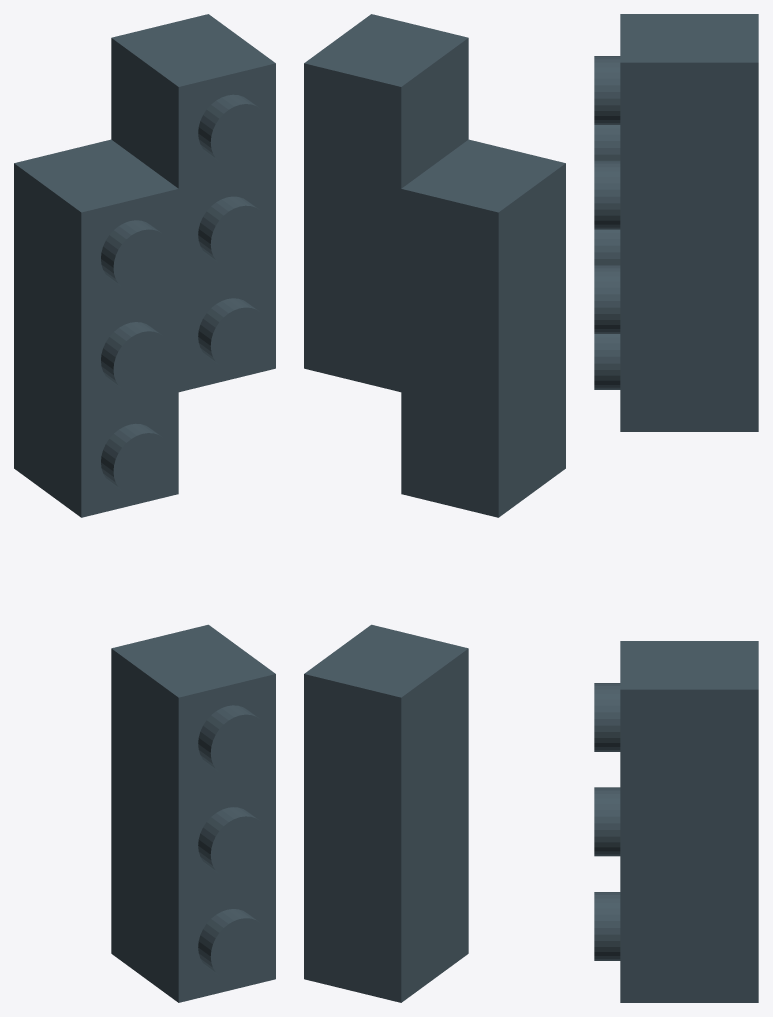
Rendered from current.glb.
The picture shows the model from 3 angles, left to right: view 1: azimuth 30°, elevation 25°; view 2: azimuth 150°, elevation 25°; view 3: azimuth 270°, elevation 25°; orthographic projection. The views are drawn at different scales.
Visible parts, largest first — view 1: world; view 2: world; view 3: world.
Part boxes in pixels (bbox=[...]): world: bbox=[14, 14, 275, 1002]; world: bbox=[304, 14, 565, 1002]; world: bbox=[594, 14, 758, 1002].
Size of the model in its own units: 16 by 72 by 11.4.
